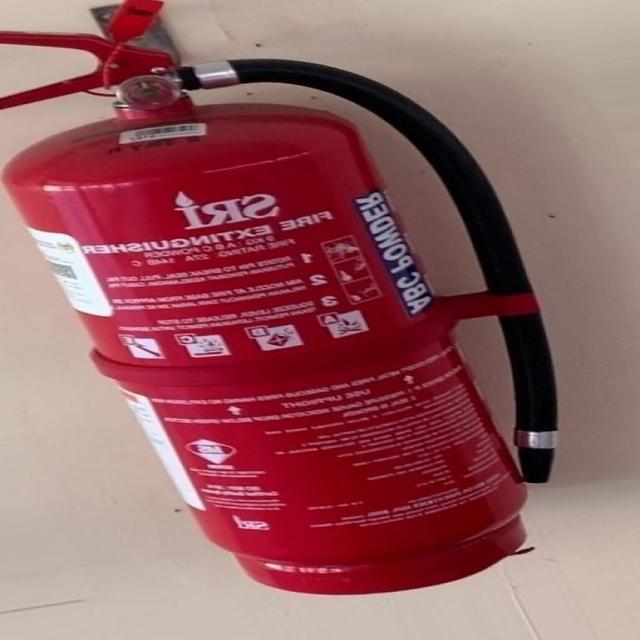fire_extinguisher: (0, 0, 565, 599)
